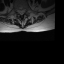CCS_normal: (20, 6, 22, 16)
LFS_normal: (24, 6, 26, 14)
LLS_normal: (22, 6, 24, 15)
RFS_normal: (16, 7, 18, 14)
RLS_normal: (18, 7, 20, 15)
